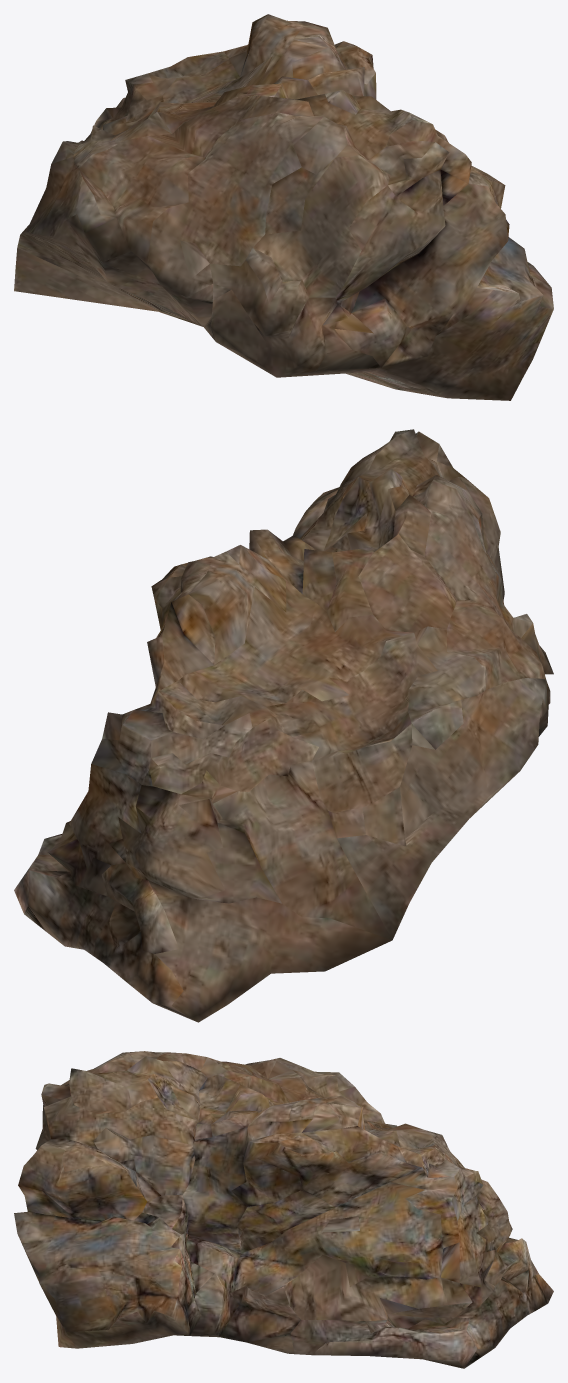
The model's file is boulder.glb.
3 views of the same model, one above another, from view 1: azimuth 30°, elevation 25°; view 2: azimuth 150°, elevation 25°; view 3: azimuth 270°, elevation 25° (orthographic). The views are drawn at different scales.
Parts seen in each view (by area): view 1: boulder; view 2: boulder; view 3: boulder.
Part boxes in pixels (<box>): boulder: <box>14,14,553,400</box>; boulder: <box>14,429,553,1022</box>; boulder: <box>14,1051,553,1368</box>.
Bounding box in the file's own units: 1.14 × 0.8998 × 1.64.
1 material, 1 textured.
